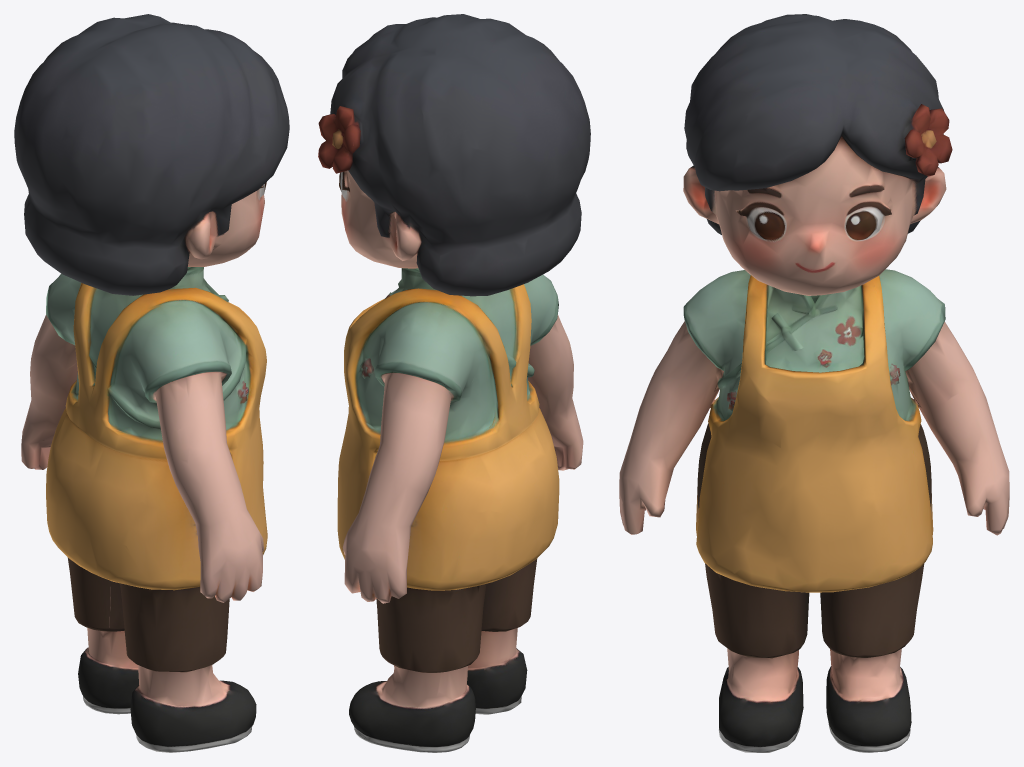
The model's file is s3_staff_server.glb.
3 views of the same model, side by side, from view 1: azimuth 30°, elevation 25°; view 2: azimuth 150°, elevation 25°; view 3: azimuth 270°, elevation 25° (orthographic).
Parts seen in each view (by area): view 1: tripo_node_ebd78a4c-4ee1-439d-bd1d-0bf414703d66; view 2: tripo_node_ebd78a4c-4ee1-439d-bd1d-0bf414703d66; view 3: tripo_node_ebd78a4c-4ee1-439d-bd1d-0bf414703d66.
Boxes of the visible parts, x1,y1,x2,y2 form: tripo_node_ebd78a4c-4ee1-439d-bd1d-0bf414703d66: (14, 14, 289, 752); tripo_node_ebd78a4c-4ee1-439d-bd1d-0bf414703d66: (318, 14, 590, 752); tripo_node_ebd78a4c-4ee1-439d-bd1d-0bf414703d66: (619, 14, 1009, 752).
Bounding box in the file's own units: 0.3504 × 1 × 0.5101.
1 material, 1 textured.
